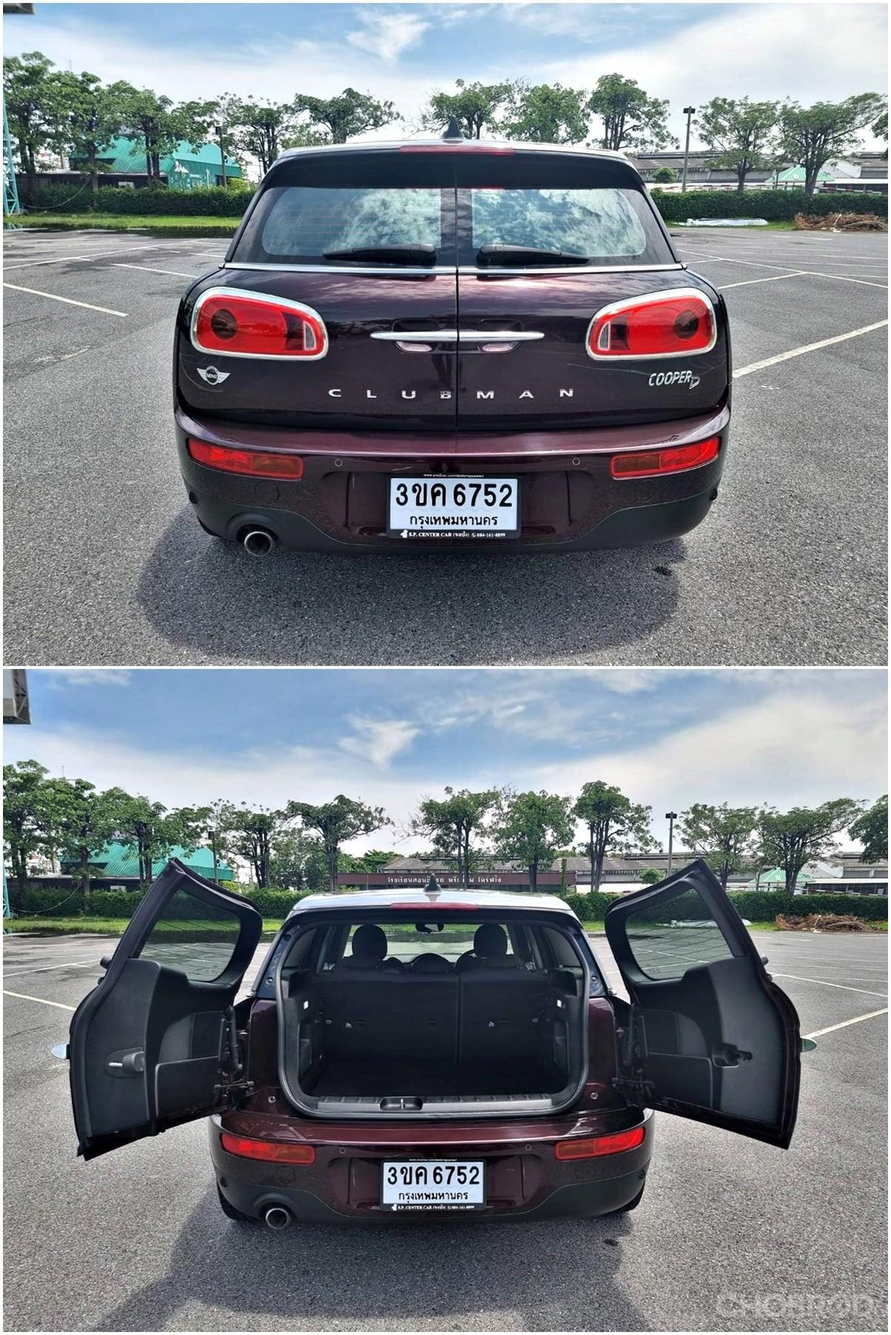license-plate: (384, 468, 521, 543), (380, 1154, 491, 1215)
